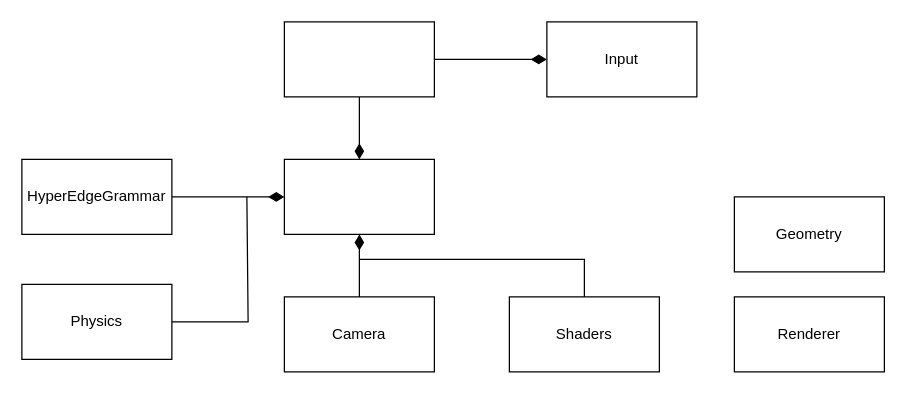
This 906x394 diagram has some shape labels left out. Each missing label, with the centre of its shape:
"Application" goes at [358,59].
"StateBase" goes at [358,196].
